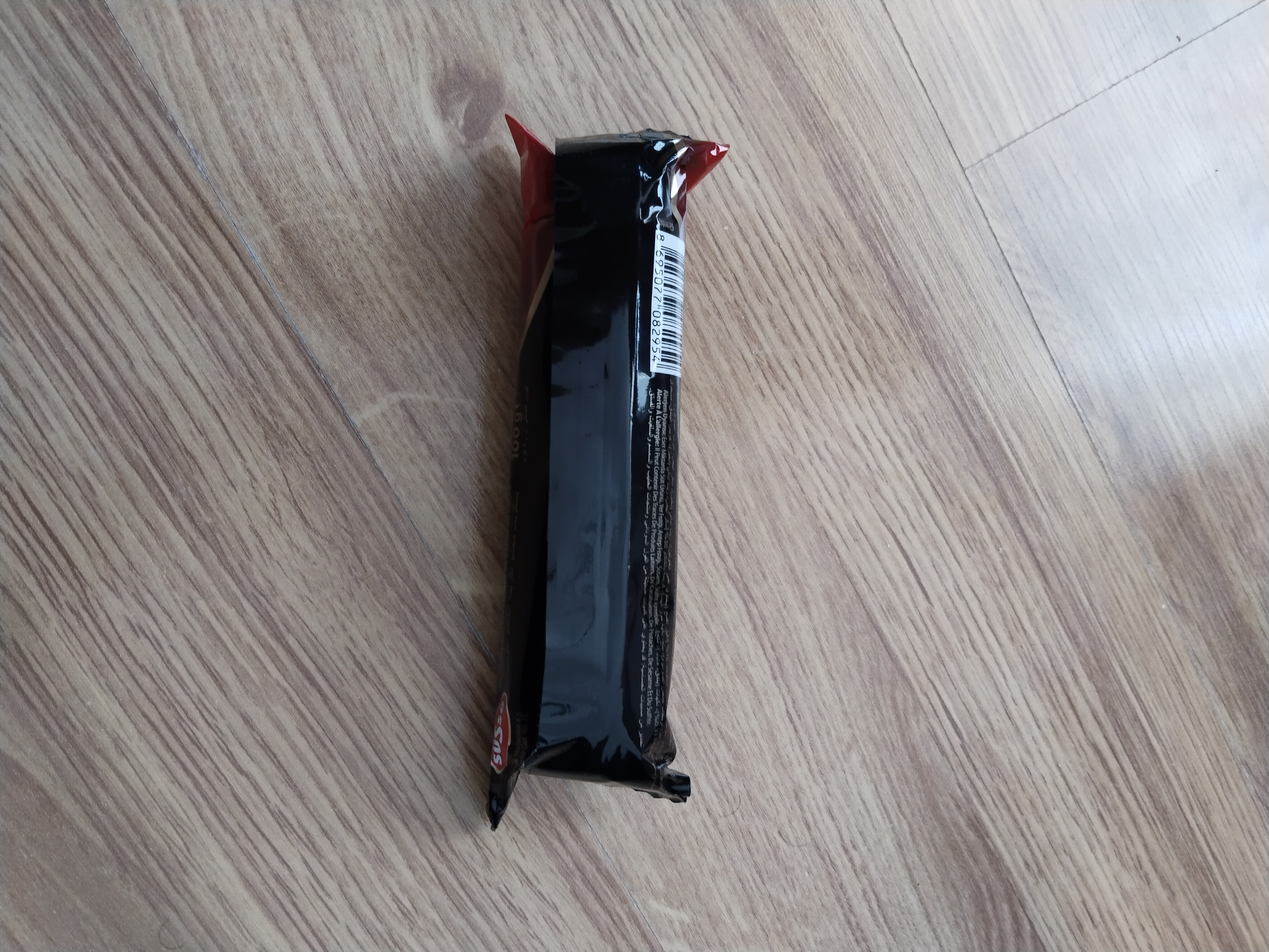susse_biskuvi: (503, 120, 729, 807)
